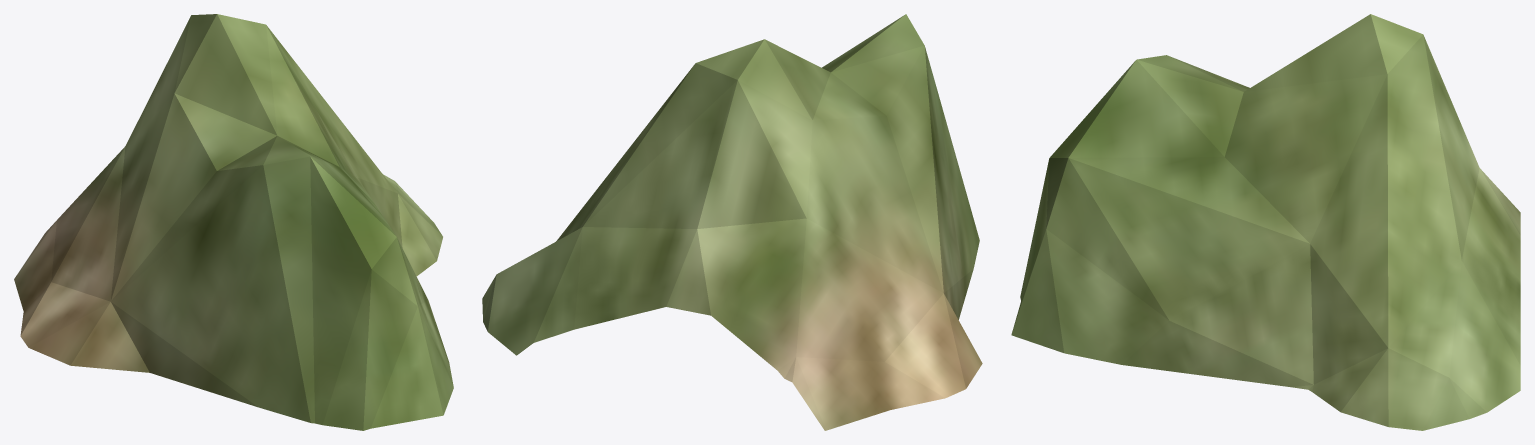
The picture shows the model from 3 angles, left to right: view 1: azimuth 30°, elevation 25°; view 2: azimuth 150°, elevation 25°; view 3: azimuth 270°, elevation 25°; orthographic projection. The views are drawn at different scales.
Bounding box in the file's own units: 0.606 × 0.3839 × 0.6005.
Materials: 1 (1 with a texture image).
